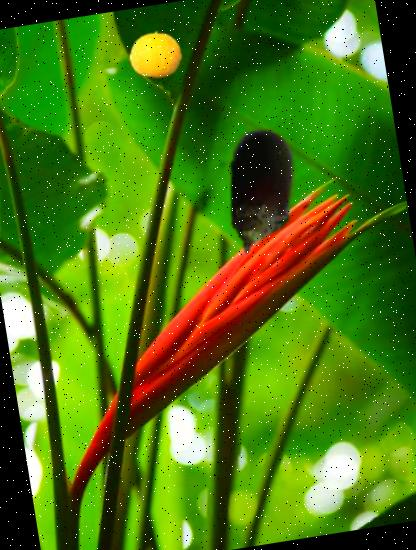Cantaloupe: (126, 25, 186, 84)
Eggplant: (188, 118, 338, 268)
